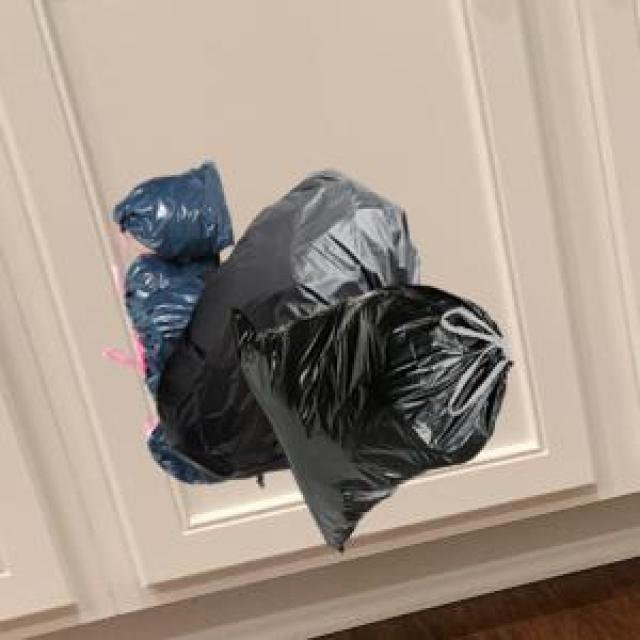garbage_bag: (109, 156, 517, 550), (228, 278, 514, 551)
